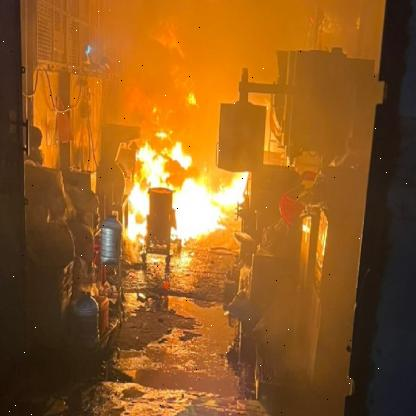fire: (122, 130, 249, 244)
smoke: (104, 0, 385, 113)
